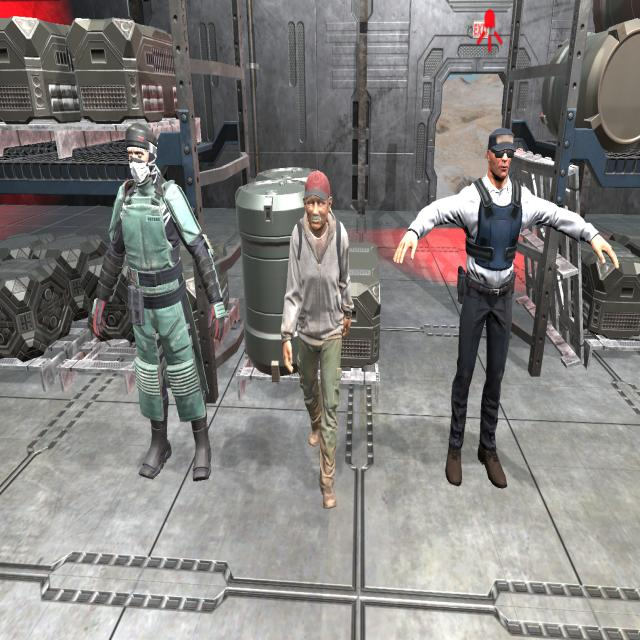thiefs: (274, 163, 358, 526)
